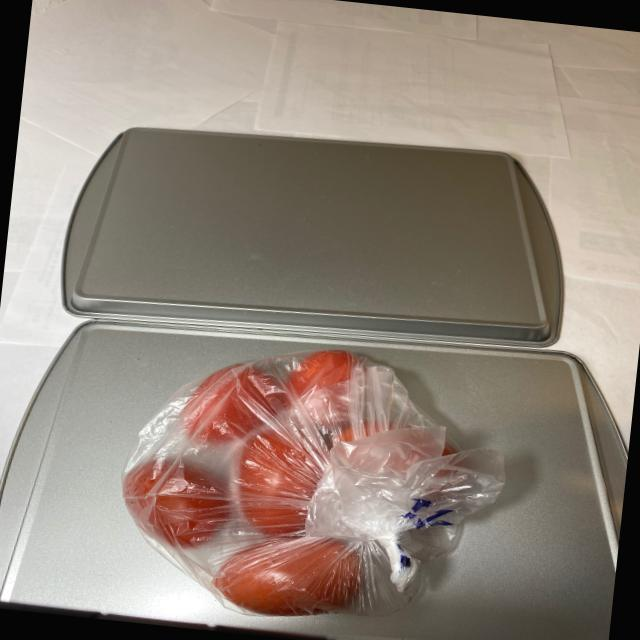tomato: (118, 326, 480, 628)
